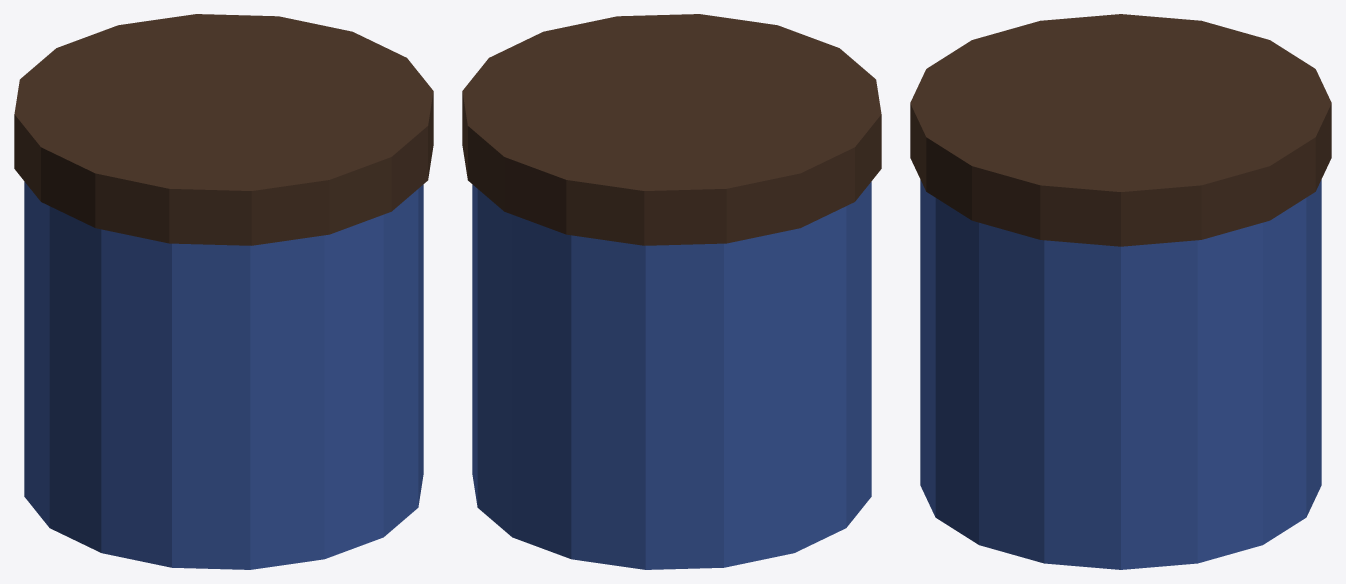
File: pickup_indigo.glb
3 views of the same model, side by side, from view 1: azimuth 30°, elevation 25°; view 2: azimuth 150°, elevation 25°; view 3: azimuth 270°, elevation 25° (orthographic).
Visible parts, largest first — view 1: PICKUP_Indigo; view 2: PICKUP_Indigo; view 3: PICKUP_Indigo.
Boxes of the visible parts, x1=… form: PICKUP_Indigo: x1=14, y1=14, x2=433, y2=569; PICKUP_Indigo: x1=462, y1=14, x2=881, y2=569; PICKUP_Indigo: x1=910, y1=14, x2=1331, y2=569.
Size of the model in its own units: 0.21 by 0.21 by 0.21.
